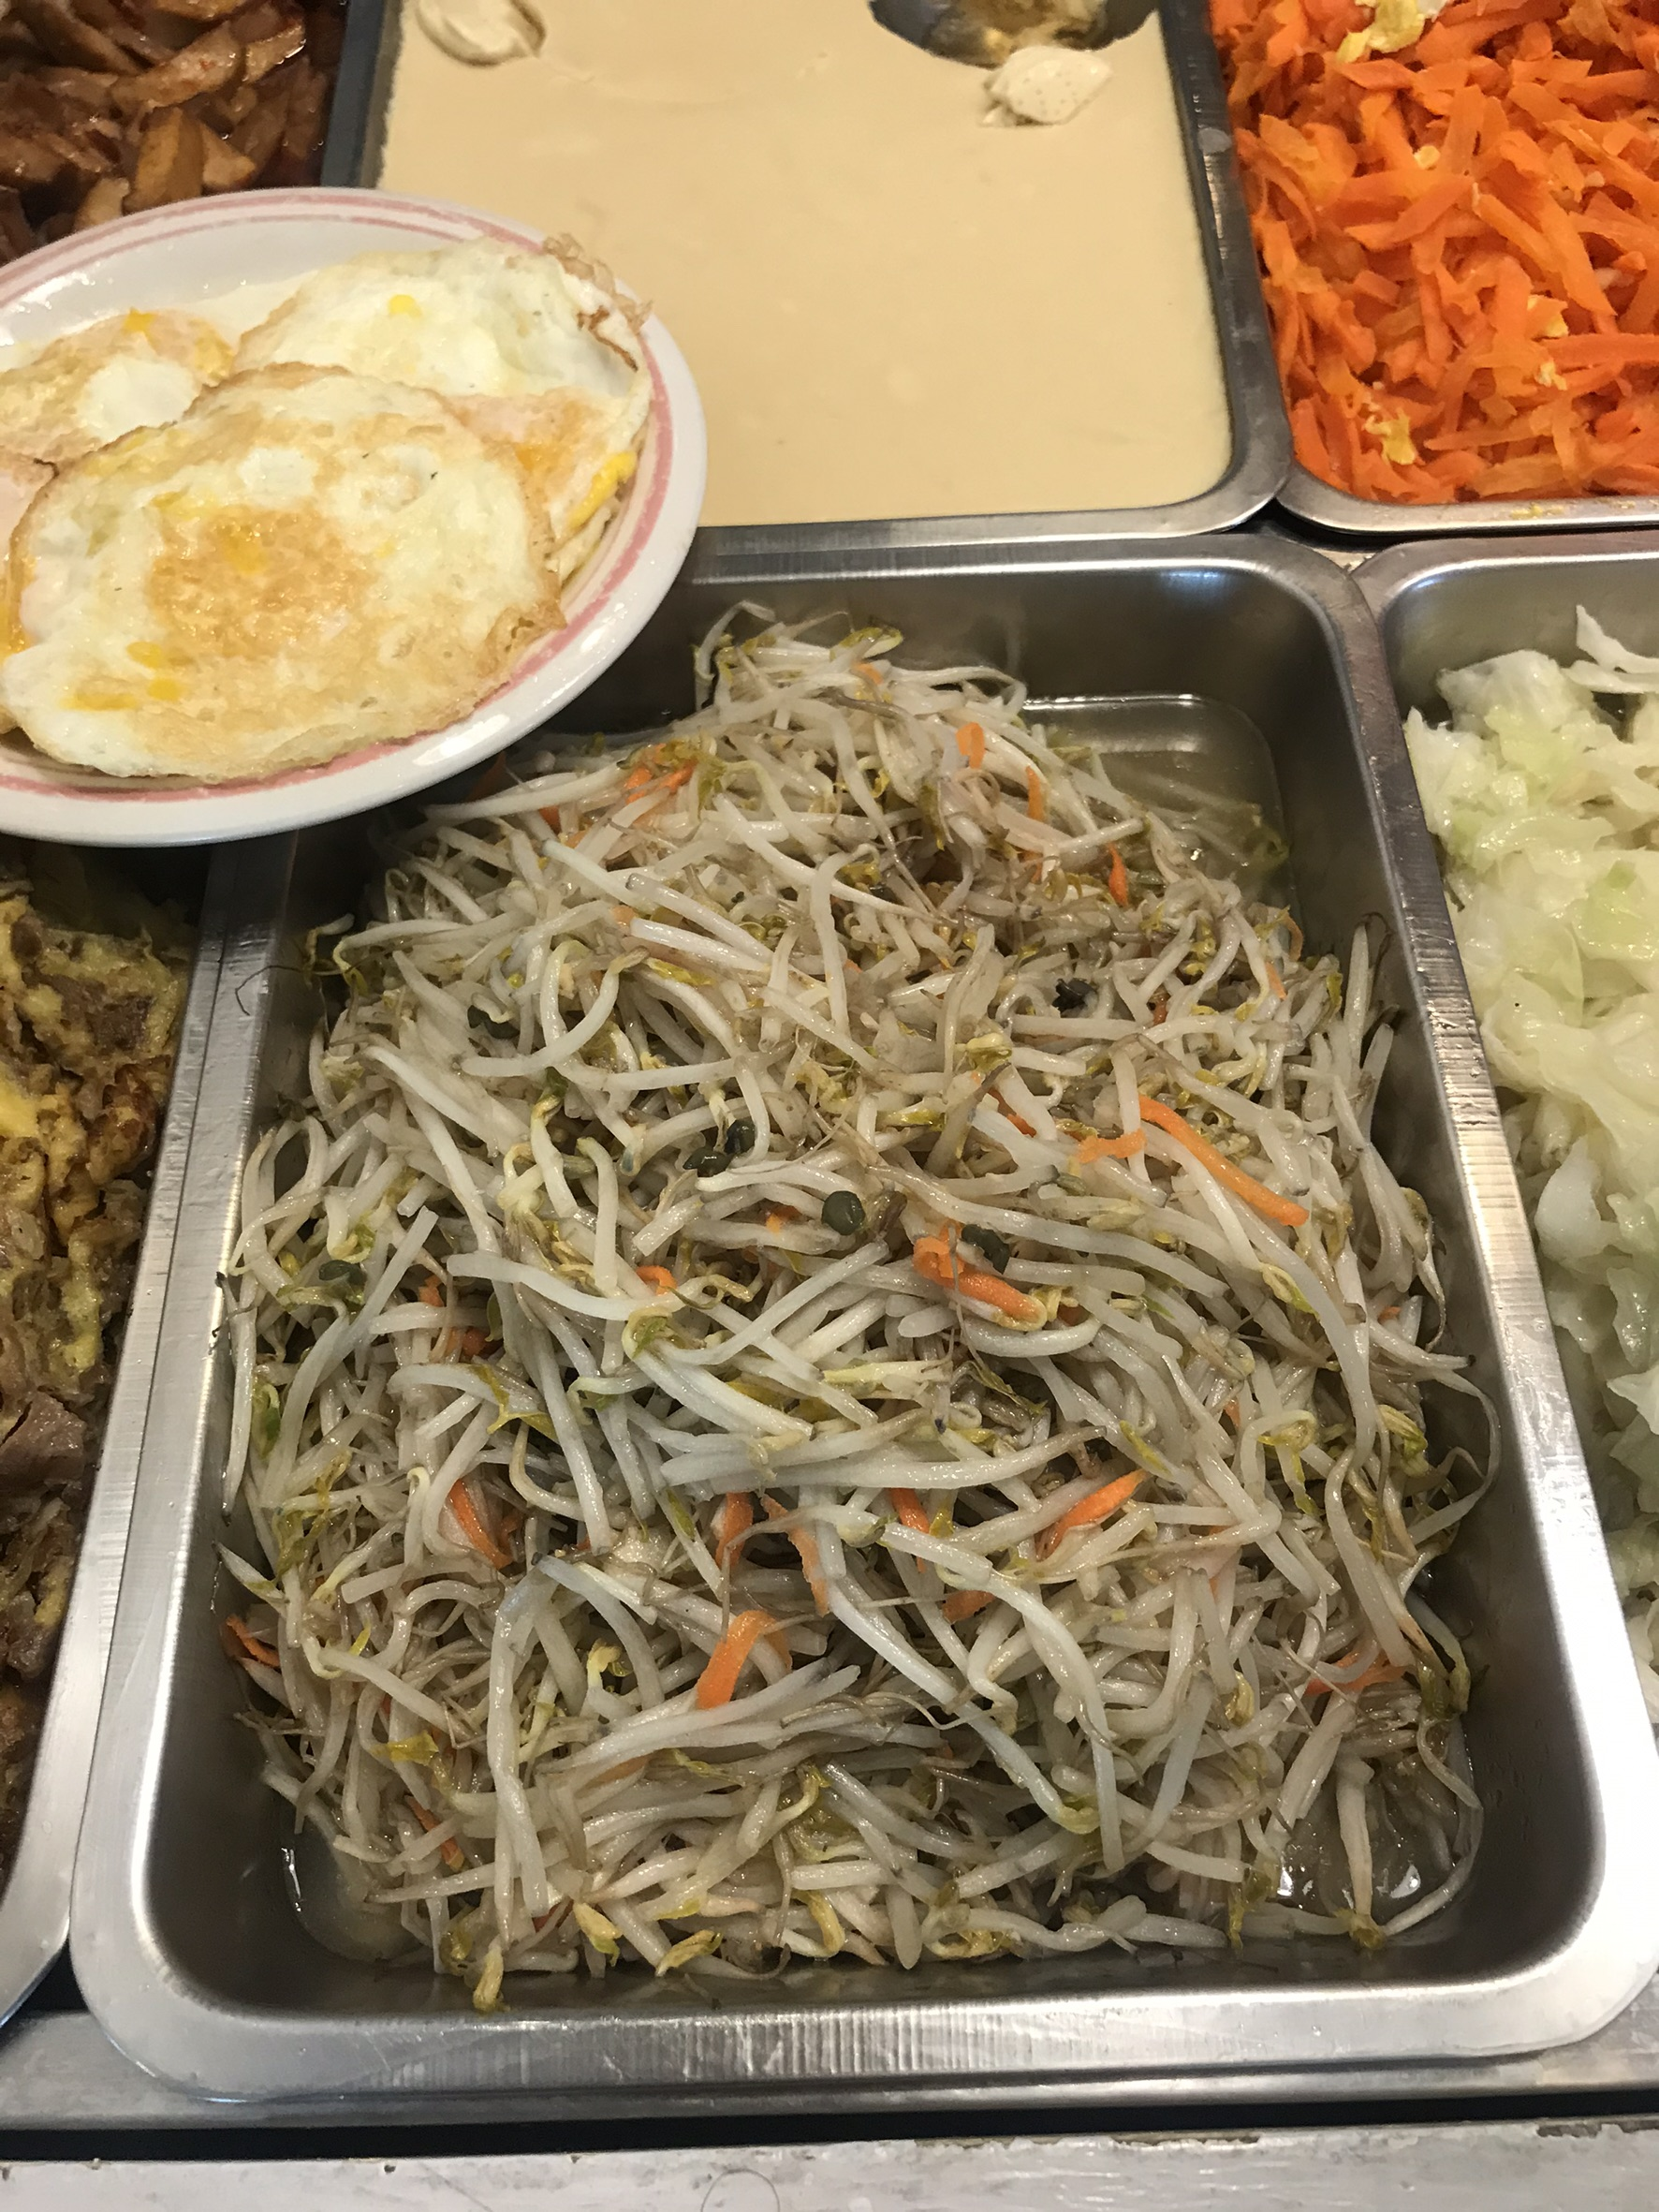carrot_eggs: (1321, 2, 1659, 474)
fried_eggs: (2, 232, 655, 784)
mung_bean_sprouts: (362, 818, 1378, 1928)
